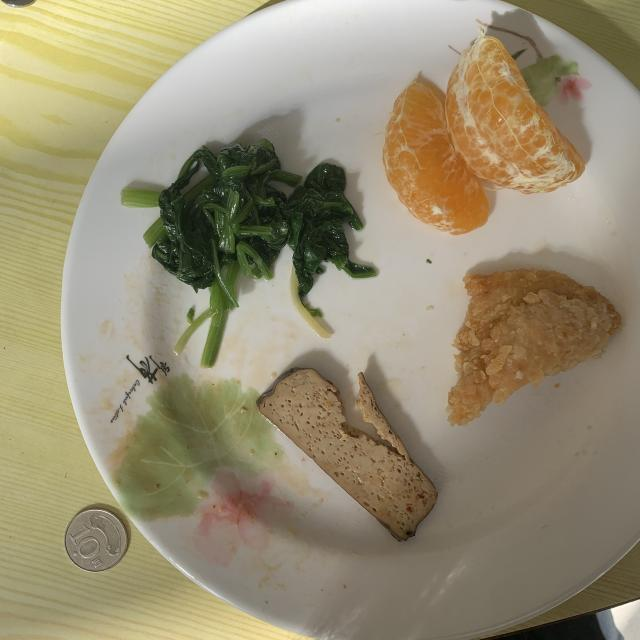coin: (65, 509, 128, 572)
firm tofu: (258, 369, 438, 540)
fried chicken cutlet: (448, 269, 621, 425)
mustard greens: (121, 139, 376, 368)
